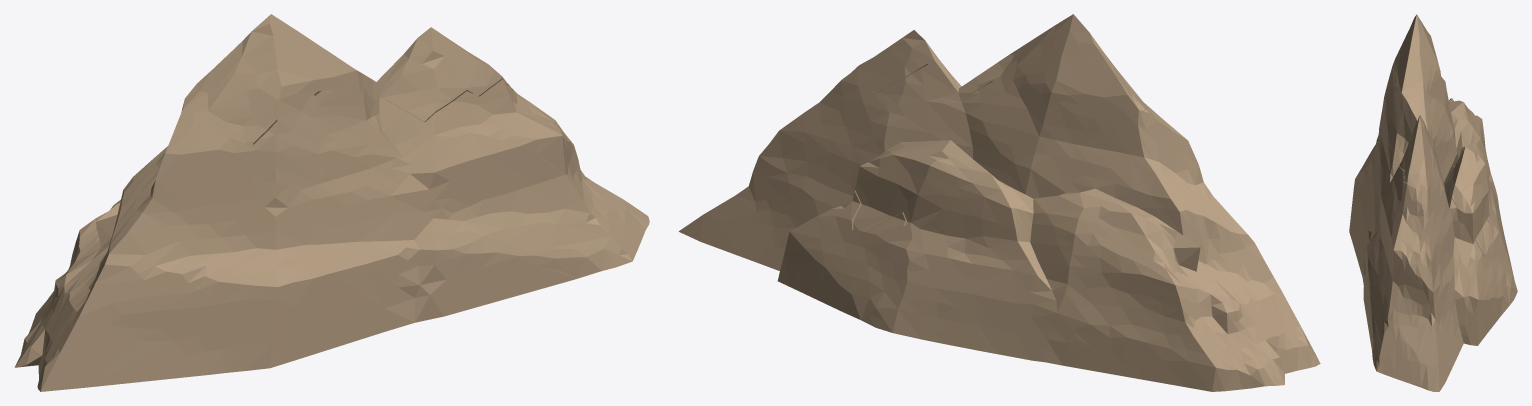
Rendered from Mighty Jaban (1).glb.
3 renders of one model, left to right at view 1: azimuth 30°, elevation 25°; view 2: azimuth 150°, elevation 25°; view 3: azimuth 270°, elevation 25°, orthographic. The views are drawn at different scales.
Visible parts, largest first — view 1: Mesh_Mesh_head_geo.001_lambert2SG.001; view 2: Mesh_Mesh_head_geo.001_lambert2SG.001; view 3: Mesh_Mesh_head_geo.001_lambert2SG.001.
Boxes of the visible parts, <box> form: Mesh_Mesh_head_geo.001_lambert2SG.001: <box>14,14,649,391</box>; Mesh_Mesh_head_geo.001_lambert2SG.001: <box>678,14,1320,391</box>; Mesh_Mesh_head_geo.001_lambert2SG.001: <box>1349,14,1517,391</box>.
Bounding box in the file's own units: 0.0719 × 0.0336 × 0.0219.
